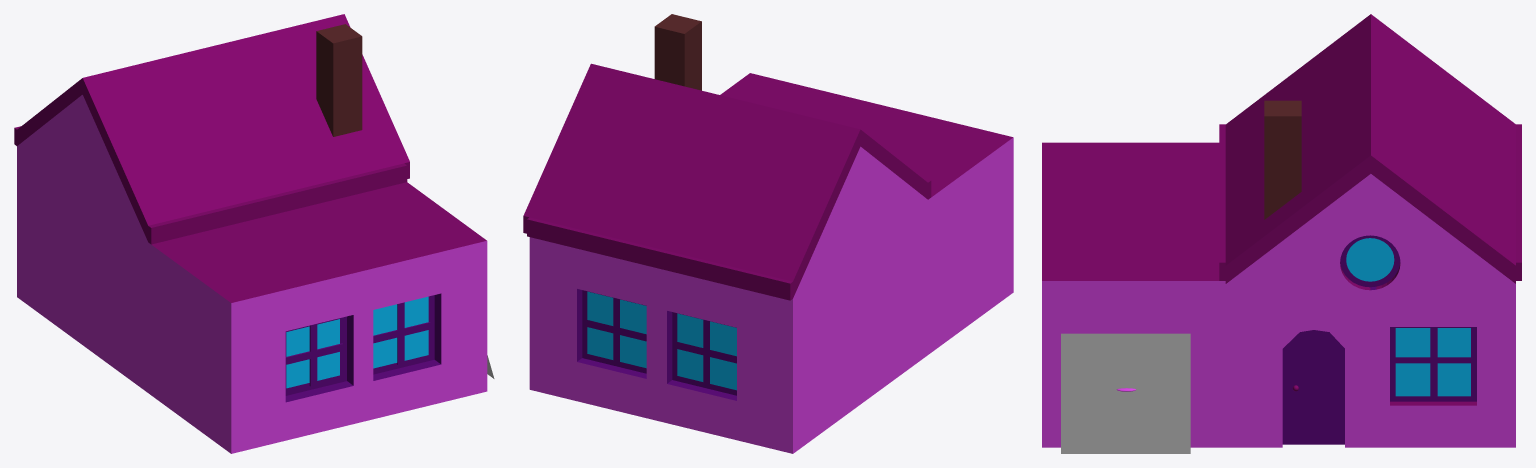
Rendered from Purple house 6.fbx.
3 renders of one model, left to right at view 1: azimuth 30°, elevation 25°; view 2: azimuth 150°, elevation 25°; view 3: azimuth 270°, elevation 25°, orthographic. The views are drawn at different scales.
Parts seen in each view (by area): view 1: Cube, Cube.002; view 2: Cube, Cube.002; view 3: Cube, Cube.002.
Part boxes in pixels (x1,y1,x2,y2): Cube: (14,14,494,453); Cube.002: (316,24,362,136); Cube: (523,63,1013,453); Cube.002: (654,14,701,90); Cube: (1042,14,1521,453); Cube.002: (1264,100,1301,219).
Bounding box in the file's own units: 268 × 271 × 370.
